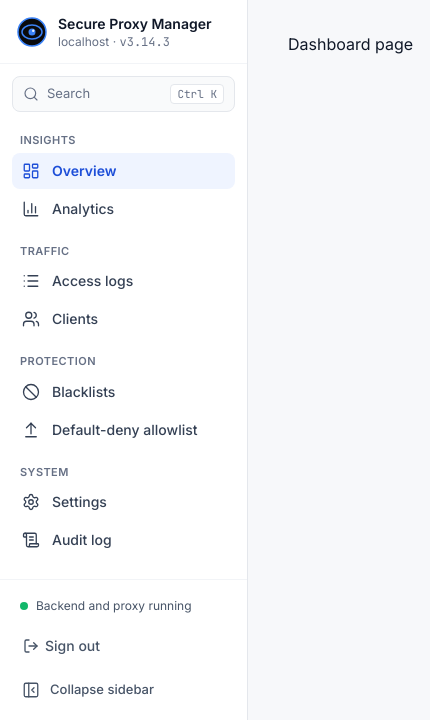
Scenario: shell on a wide screen › works when storage throws on every read and write
Click the button "Collapse sidebar". click: (124, 690)
box: x1=12 y1=672 x2=235 y2=708
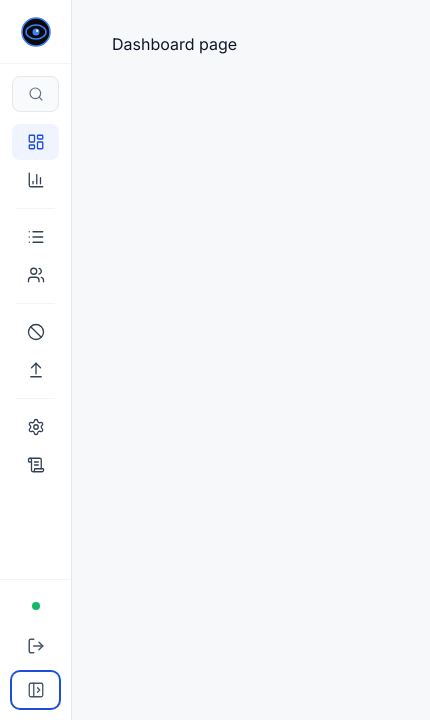
Expected: the button named "Expand sidebar" is collapsed, x1=12 y1=672 x2=59 y2=708
